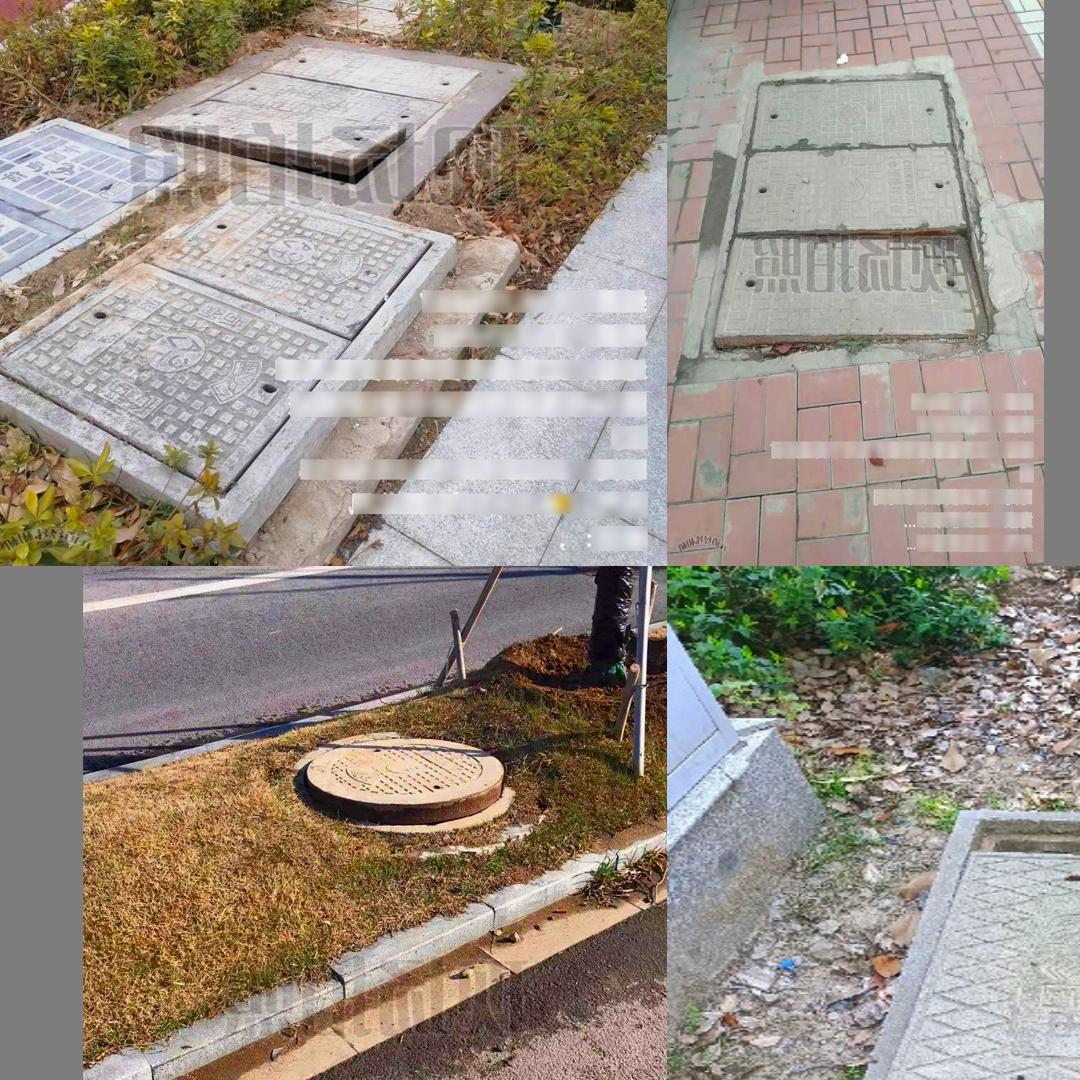good: (0, 177, 458, 543), (0, 117, 203, 299)
uncovered: (700, 65, 994, 361), (852, 805, 1080, 1080), (133, 41, 486, 191), (302, 732, 513, 833)
